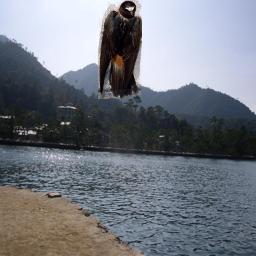Swallow: (98, 0, 142, 99)
